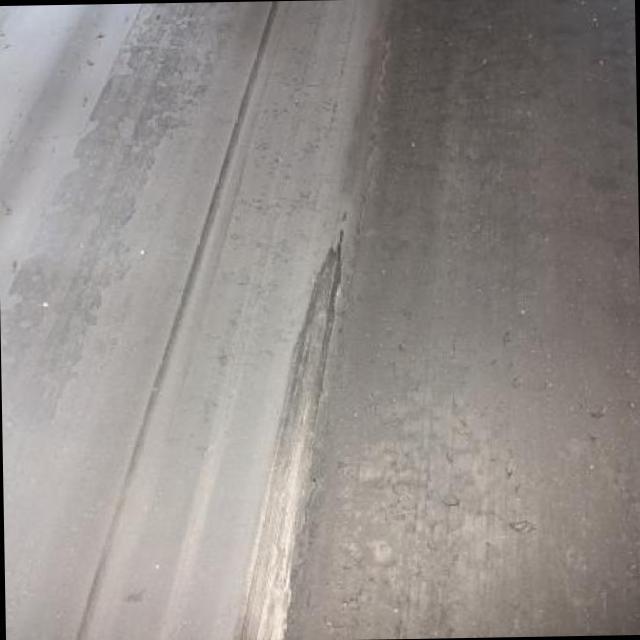Wear: (65, 0, 283, 639), (226, 210, 350, 640)
